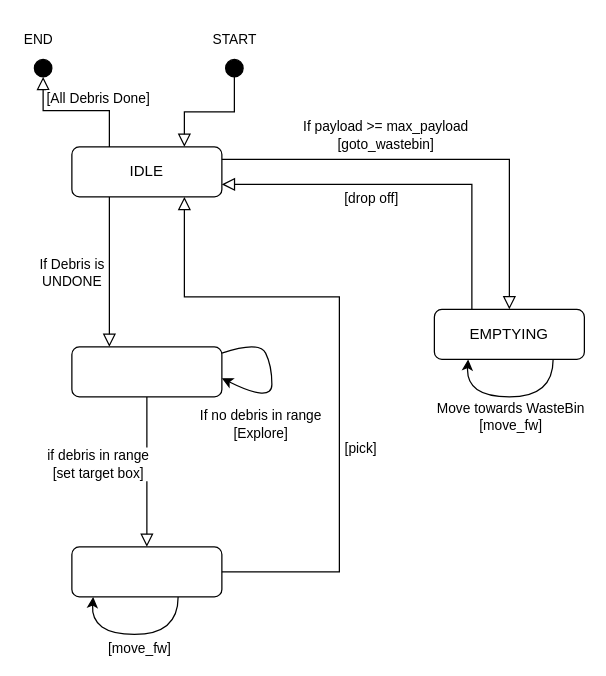
The diagram is 606 pixels wide and 676 high, and some of its shapes have lost their labels. The shapes that lost their labels are listed below. From the top down, each one's box as (x1, y1, x2, y2) in pixels, then its label:
(71, 346, 222, 397): EXPLORING
(71, 546, 222, 597): PICKING
